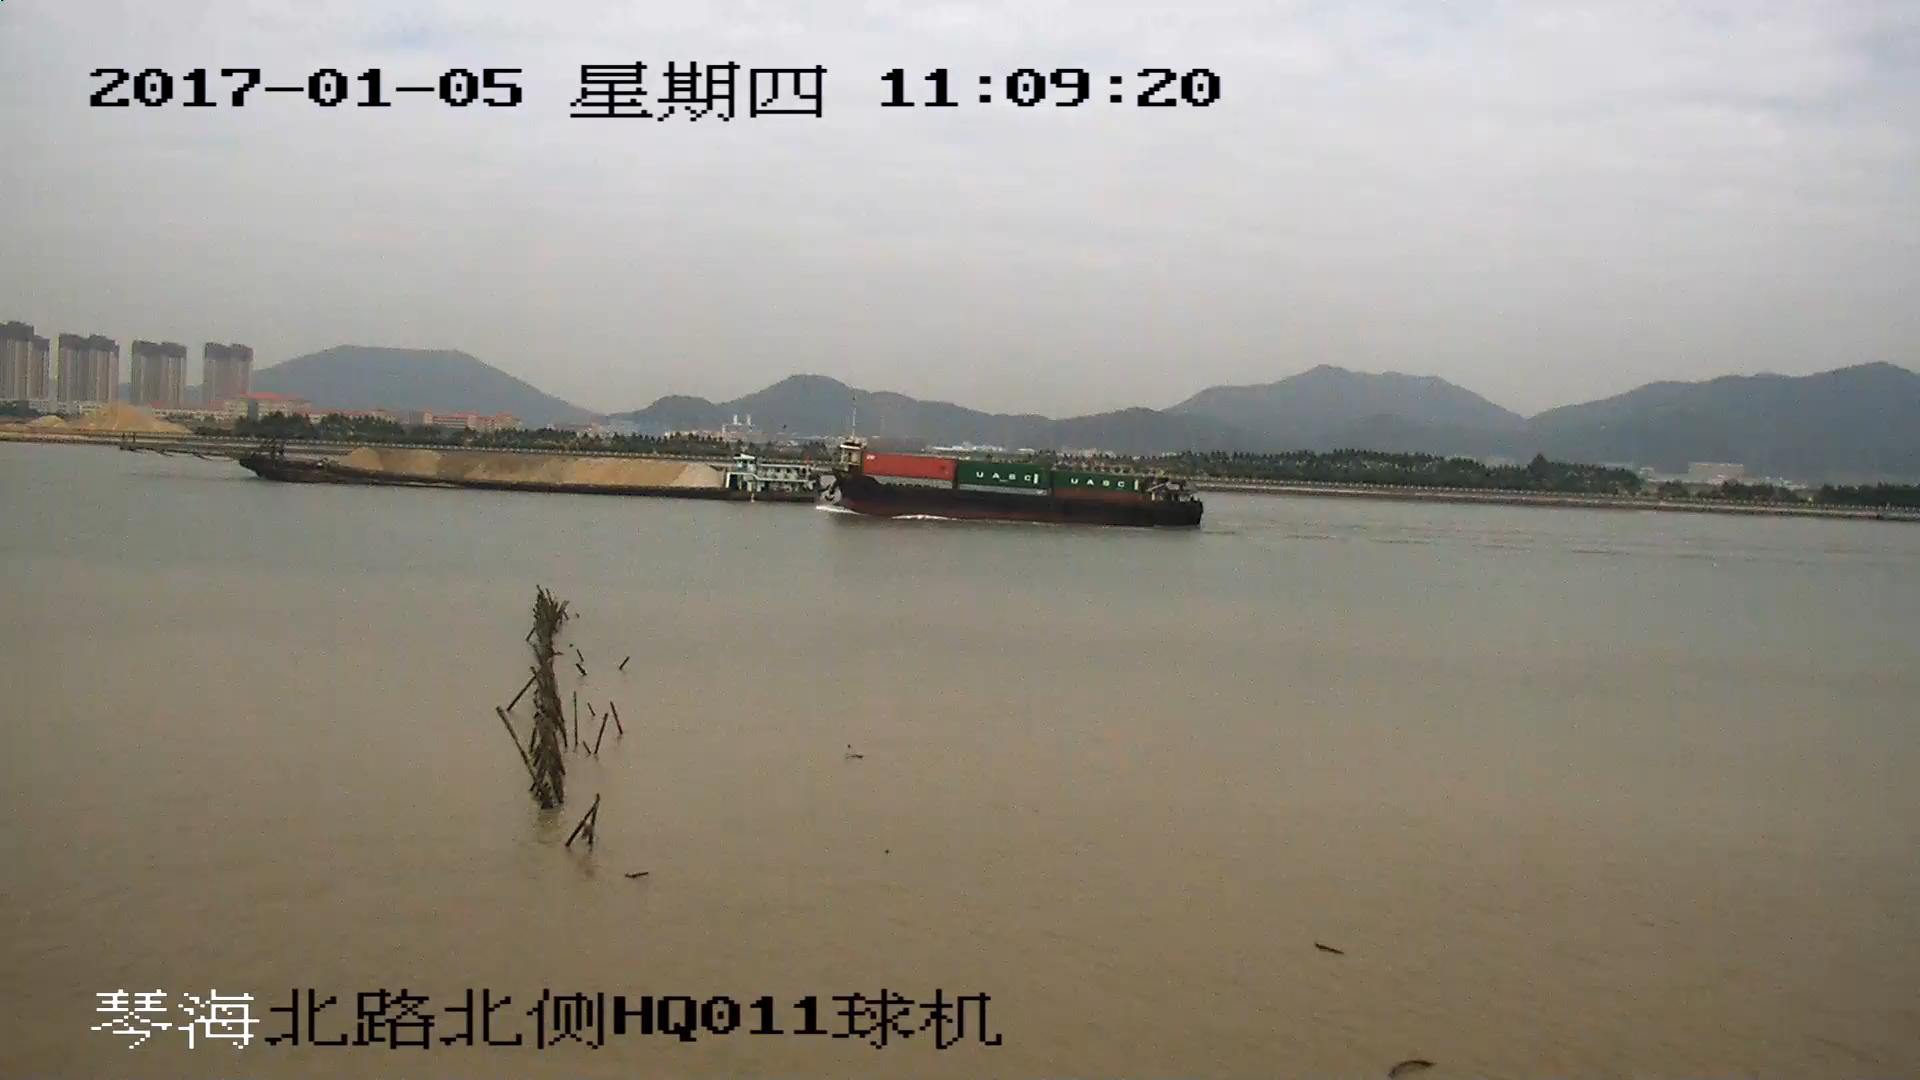container ship: (825, 434, 1206, 527)
ore carrier: (148, 416, 822, 502)
